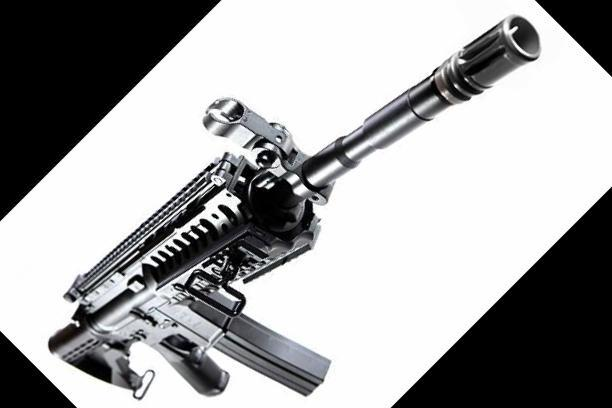larga: (48, 15, 541, 403)
